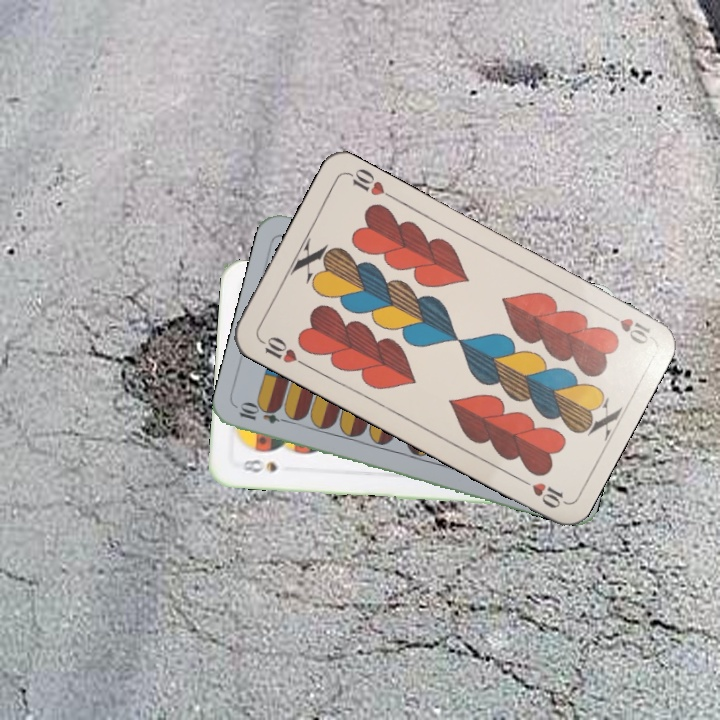E10: (234, 401, 294, 426)
H10: (600, 307, 653, 348), (255, 332, 310, 370)
S8: (238, 455, 280, 475)
